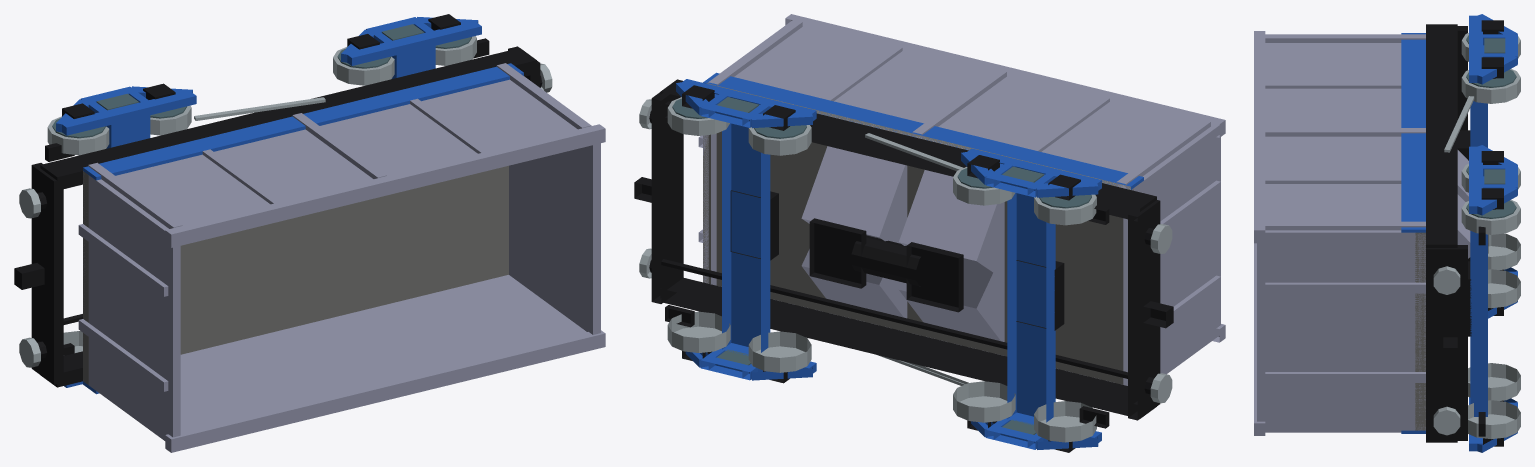
File: empty.glb
3 renders of one model, left to right at view 1: azimuth 30°, elevation 25°; view 2: azimuth 150°, elevation 25°; view 3: azimuth 270°, elevation 25°, orthographic. The views are drawn at different scales.
Visible parts, largest first — view 1: empty_body, empty_bogie-1, empty_bogie1, empty_solebar1, empty_side1_-3.30_2.00, empty_headstock-1, empty_buffers-1, empty_side1_-1.66_2.35, empty_side1_1.54_2.35, empty_brake_lever1, empty_solebar-1; view 2: empty_body, empty_bogie1, empty_bogie-1, empty_solebar-1, empty_chute0, empty_chute1, empty_headstock1, empty_headstock-1, empty_side1_-3.30_2.00, empty_solebar1, empty_gate0, empty_gate1 (+9 smaller); view 3: empty_body, empty_bogie1, empty_bogie-1, empty_solebar1, empty_headstock1, empty_side1_-3.30_2.00, empty_buffers1, empty_side1_1.54_2.35, empty_side1_-1.66_2.35, empty_headstock-1, empty_chute1, empty_brake_lever1 (+2 smaller).
Boxes of the visible parts, x1=… form: empty_body: x1=78, y1=63, x2=605, y2=452; empty_bogie-1: x1=47, y1=83, x2=196, y2=387; empty_bogie1: x1=333, y1=14, x2=481, y2=85; empty_solebar1: x1=40, y1=48, x2=536, y2=190; empty_side1_-3.30_2.00: x1=83, y1=63, x2=523, y2=180; empty_headstock-1: x1=31, y1=163, x2=63, y2=384; empty_buffers-1: x1=14, y1=188, x2=47, y2=367; empty_side1_-1.66_2.35: x1=202, y1=149, x2=281, y2=204; empty_side1_1.54_2.35: x1=410, y1=98, x2=488, y2=153; empty_brake_lever1: x1=194, y1=97, x2=325, y2=120; empty_solebar-1: x1=40, y1=351, x2=82, y2=387; empty_body: x1=698, y1=14, x2=1225, y2=385; empty_bogie1: x1=667, y1=79, x2=816, y2=383; empty_bogie-1: x1=953, y1=148, x2=1101, y2=452; empty_solebar-1: x1=660, y1=278, x2=1155, y2=418; empty_chute0: x1=899, y1=170, x2=1004, y2=341; empty_chute1: x1=801, y1=146, x2=907, y2=318; empty_headstock1: x1=651, y1=92, x2=683, y2=303; empty_headstock-1: x1=1128, y1=200, x2=1160, y2=420; empty_side1_-3.30_2.00: x1=703, y1=72, x2=1143, y2=189; empty_solebar1: x1=660, y1=79, x2=1156, y2=221; empty_gate0: x1=906, y1=242, x2=963, y2=312; empty_gate1: x1=809, y1=218, x2=866, y2=288; empty_body: x1=1254, y1=31, x2=1425, y2=435; empty_bogie1: x1=1461, y1=145, x2=1520, y2=452; empty_bogie-1: x1=1461, y1=14, x2=1520, y2=318; empty_solebar1: x1=1426, y1=24, x2=1457, y2=247; empty_headstock1: x1=1426, y1=245, x2=1467, y2=440; empty_side1_-3.30_2.00: x1=1401, y1=33, x2=1425, y2=232; empty_buffers1: x1=1433, y1=266, x2=1460, y2=435; empty_side1_1.54_2.35: x1=1265, y1=177, x2=1401, y2=183; empty_side1_-1.66_2.35: x1=1265, y1=82, x2=1401, y2=88; empty_headstock-1: x1=1457, y1=26, x2=1467, y2=130; empty_chute1: x1=1457, y1=194, x2=1470, y2=258; empty_brake_lever1: x1=1444, y1=96, x2=1474, y2=152.
Size of the model in its own units: 8.2 by 3.9 by 3.79.
